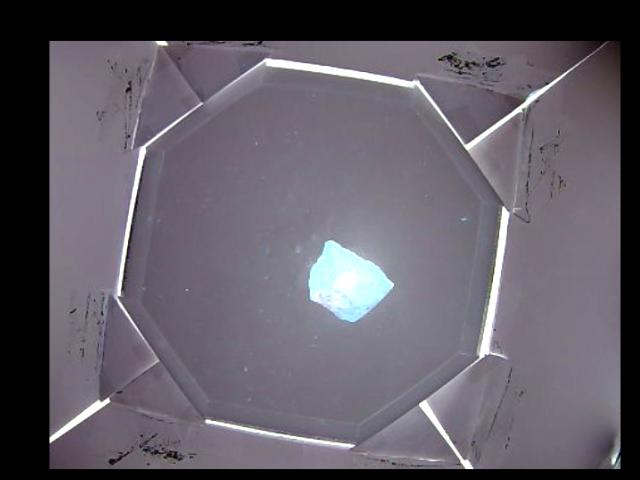Brisk: (310, 240, 392, 321)
